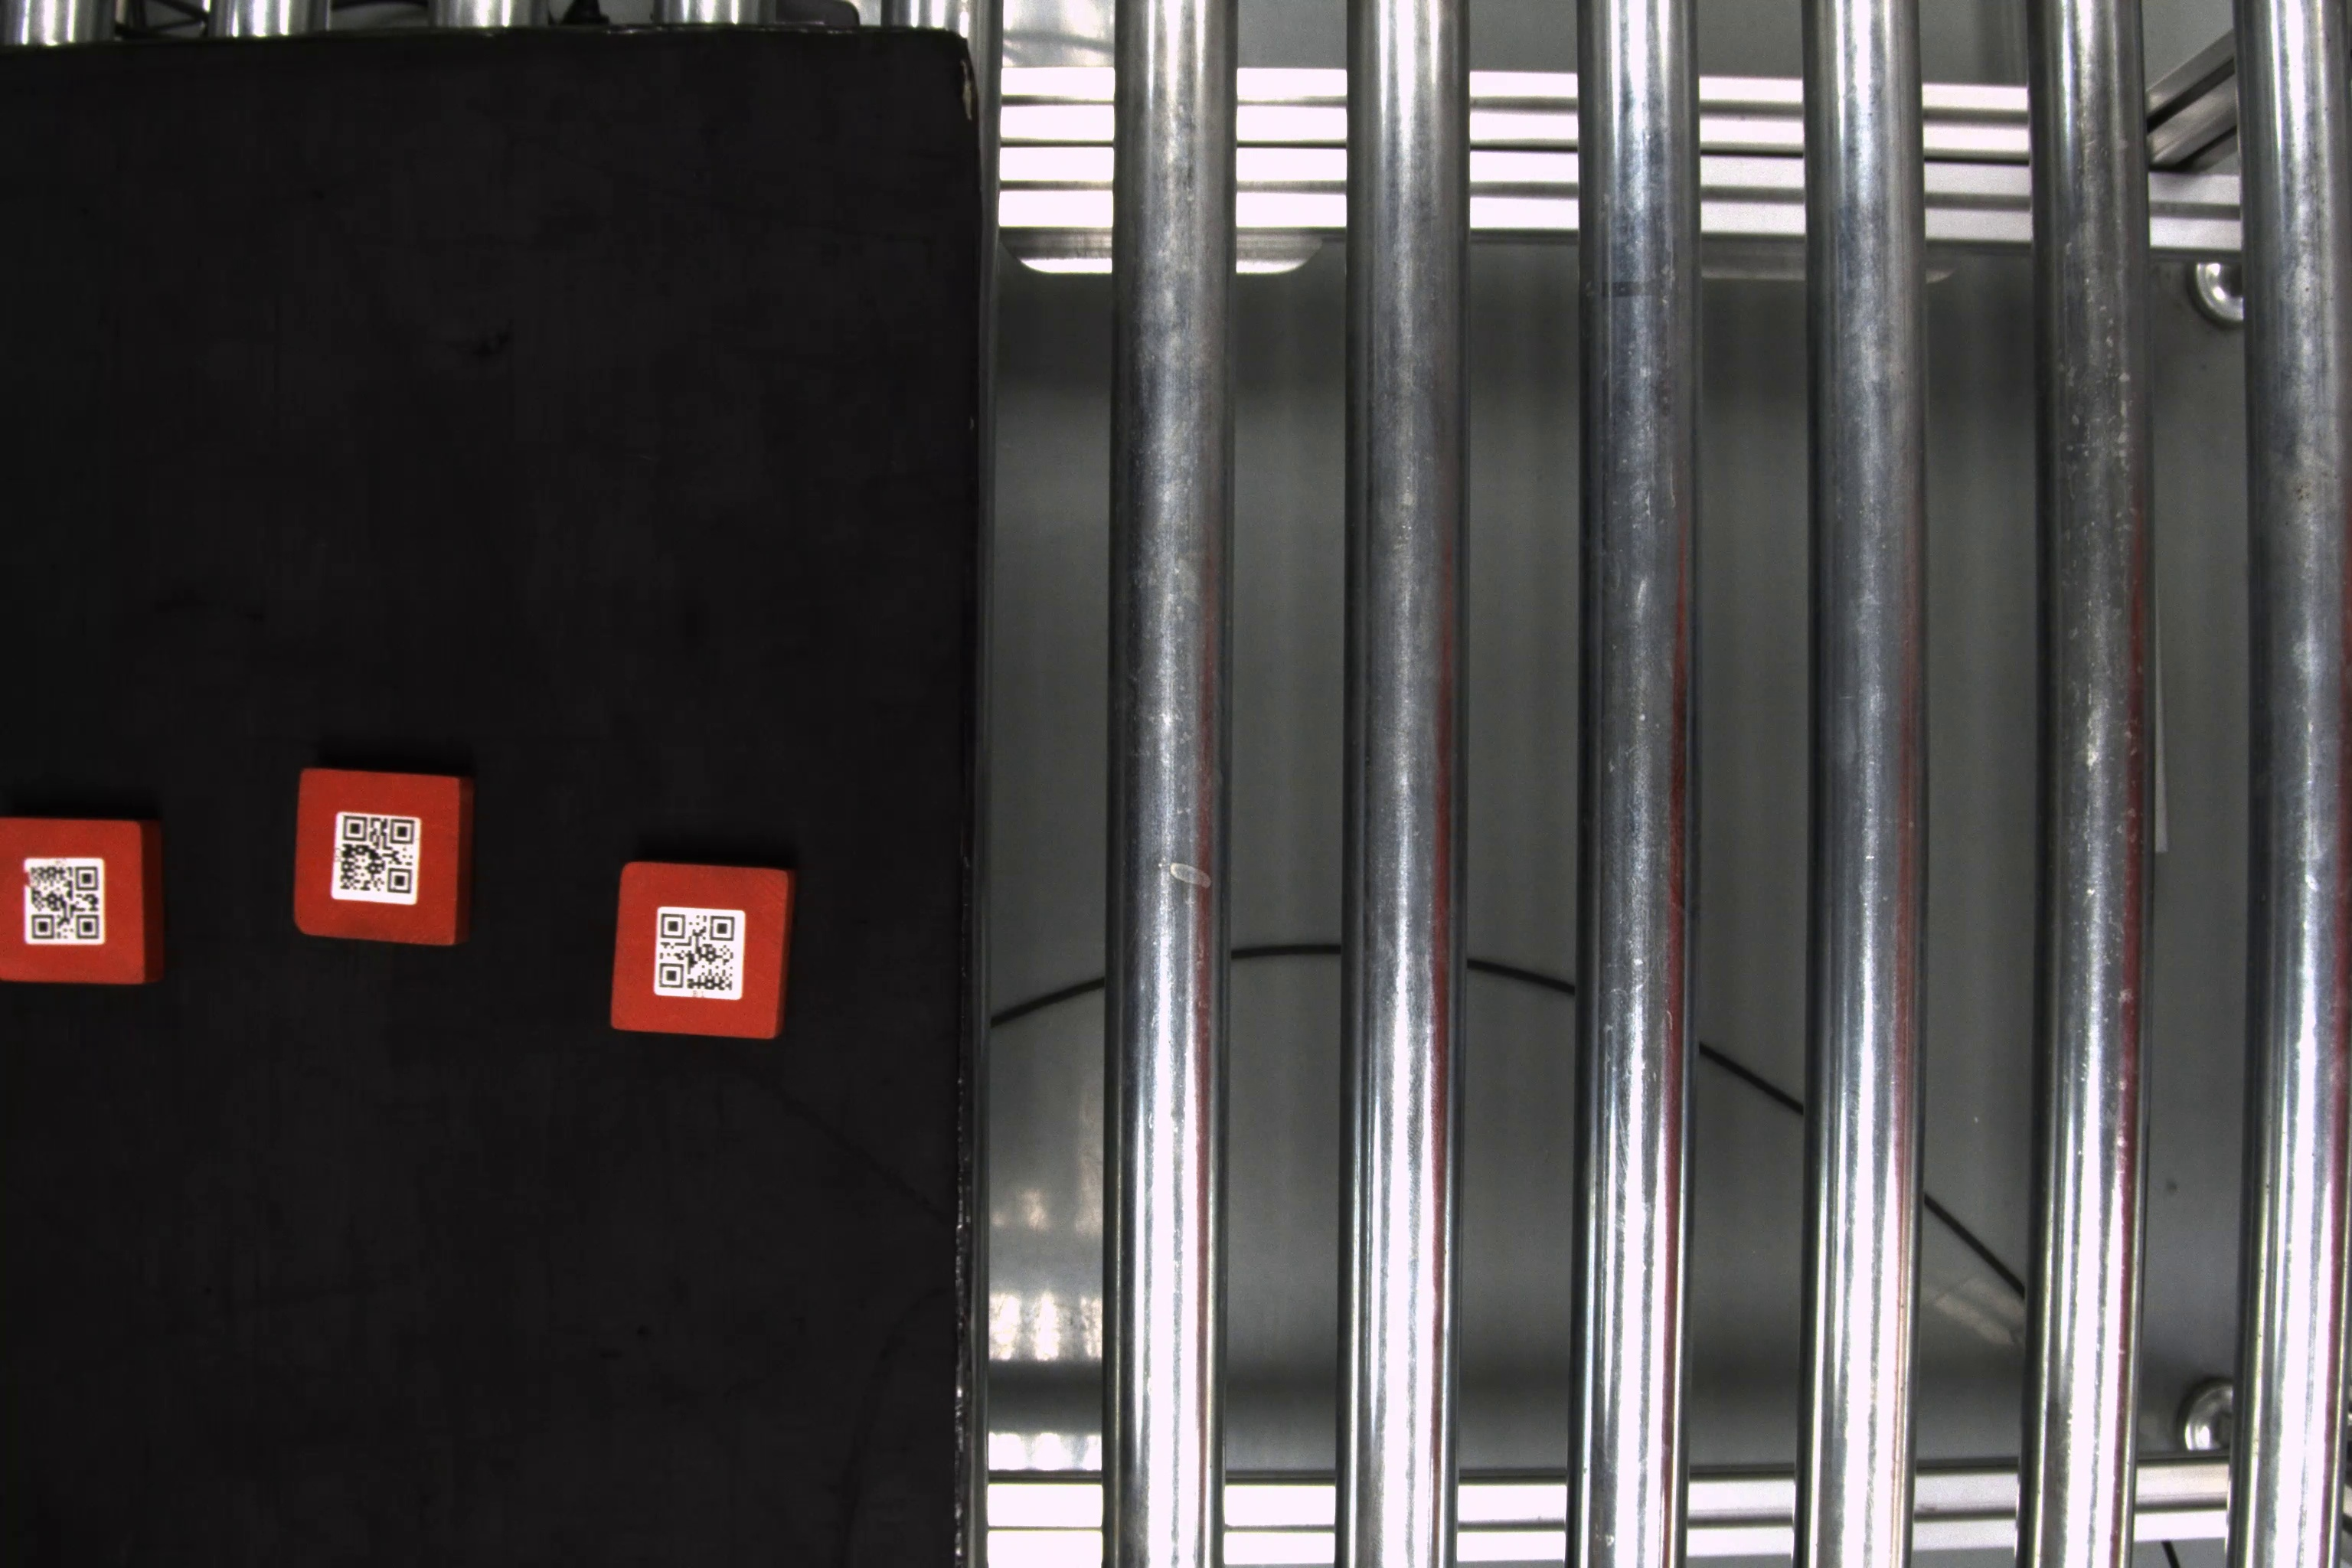wood: (287, 765, 481, 955), (614, 857, 796, 1043), (2, 810, 171, 996)
